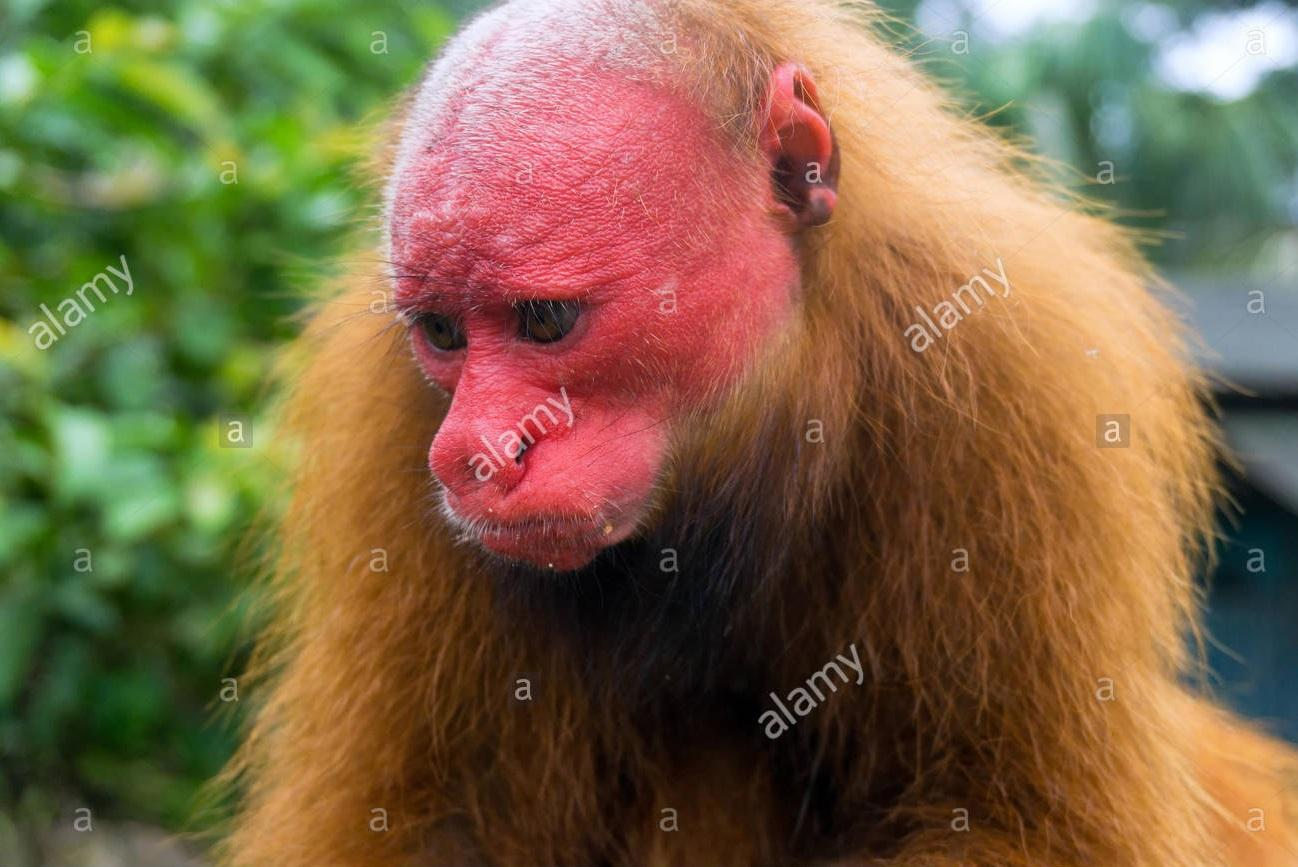monkey: (227, 0, 1298, 867)
